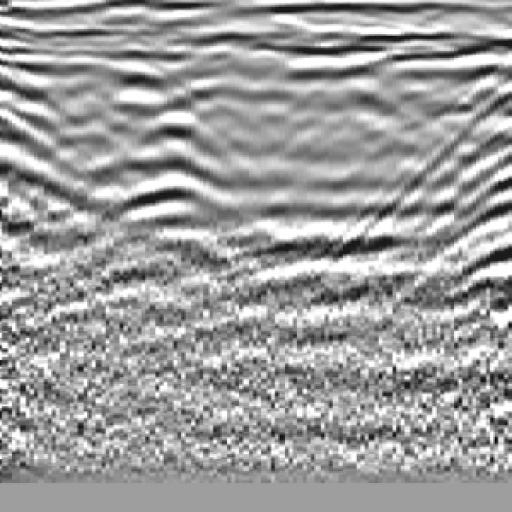metalic: (79, 46, 246, 281)
nonmetalic: (363, 41, 512, 310)
